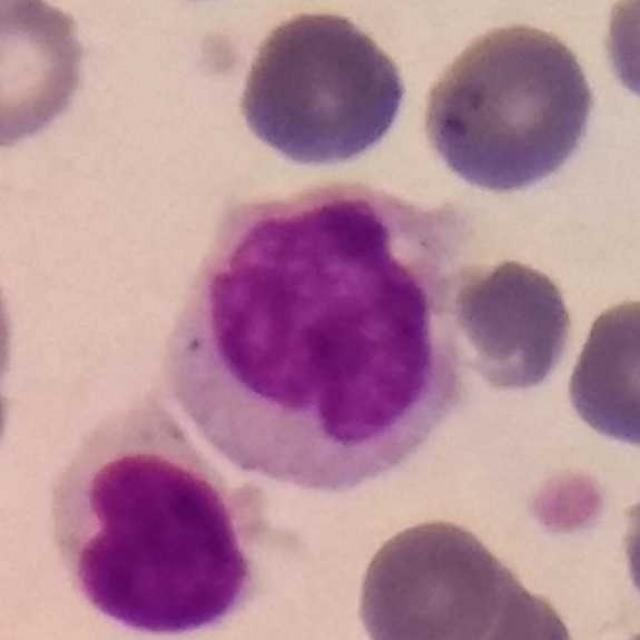Monocyte: (160, 177, 470, 495), (38, 403, 312, 640)
Platelets: (526, 463, 614, 543), (185, 27, 254, 76)
RBC: (414, 16, 603, 198), (230, 3, 416, 175), (350, 512, 511, 640), (448, 252, 578, 398), (0, 0, 95, 156), (560, 292, 640, 455), (425, 581, 583, 640), (596, 1, 640, 115), (614, 461, 640, 625), (0, 273, 26, 426)
